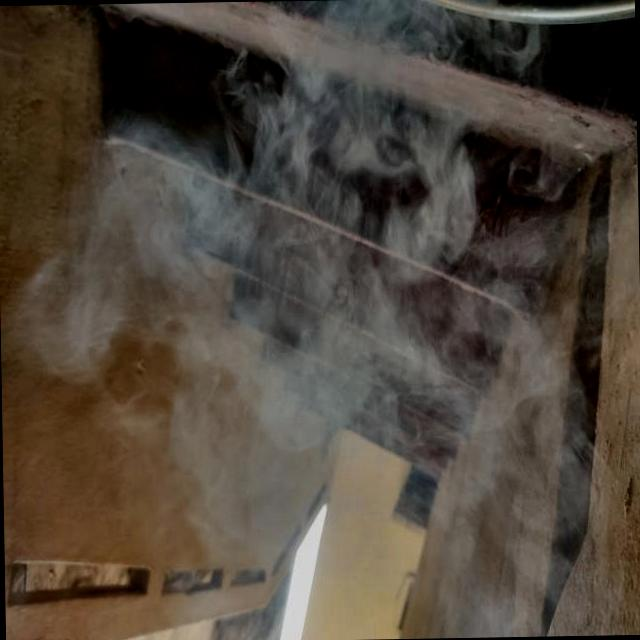smoke: (128, 153, 418, 520)
